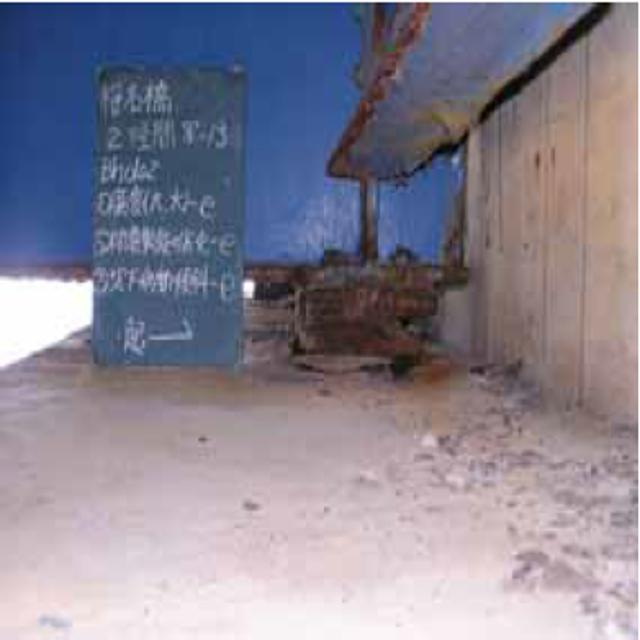corrosion: (281, 220, 463, 386), (329, 6, 430, 181)
